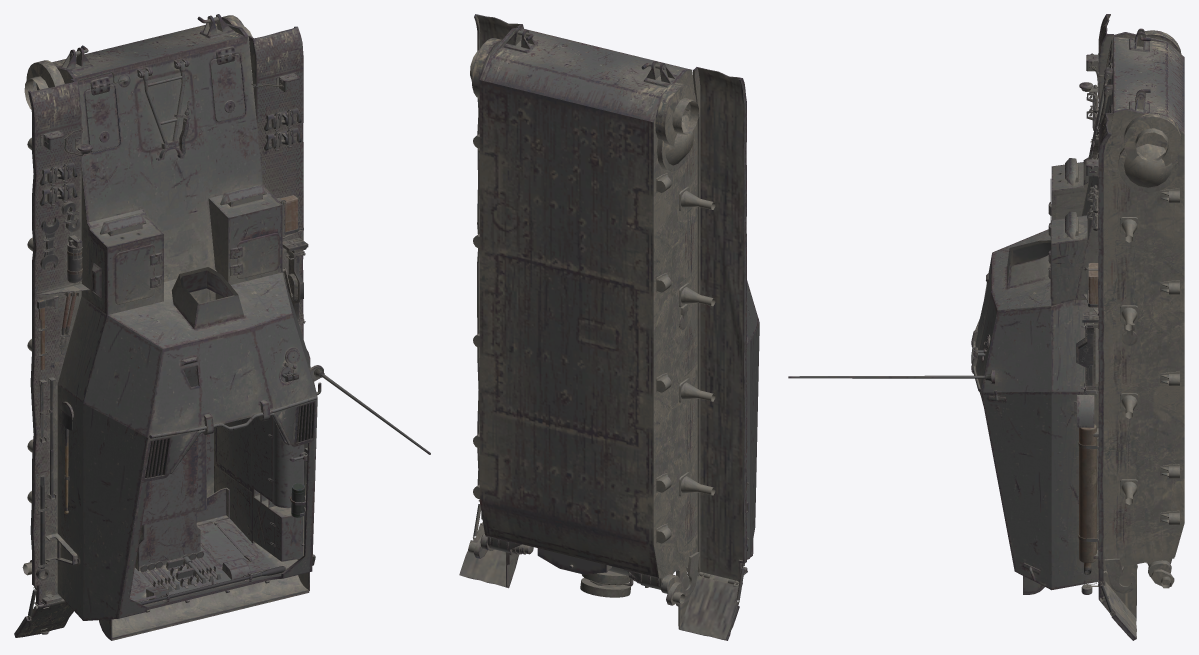
The model's file is Hull.glb.
The picture shows the model from 3 angles, left to right: view 1: azimuth 30°, elevation 25°; view 2: azimuth 150°, elevation 25°; view 3: azimuth 270°, elevation 25°; orthographic projection. The views are drawn at different scales.
Parts seen in each view (by area): view 1: set_0_group_0; view 2: set_0_group_0; view 3: set_0_group_0.
Part boxes in pixels (x1,y1,x2,y2): set_0_group_0: [14, 14, 430, 640]; set_0_group_0: [459, 14, 759, 640]; set_0_group_0: [788, 14, 1184, 640].
Bounding box in the file's own units: 2.87 × 5.8 × 4.
Materials: 1 (1 with a texture image).
